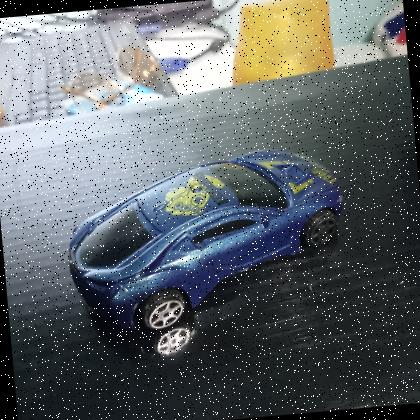Car: (56, 138, 358, 340)
